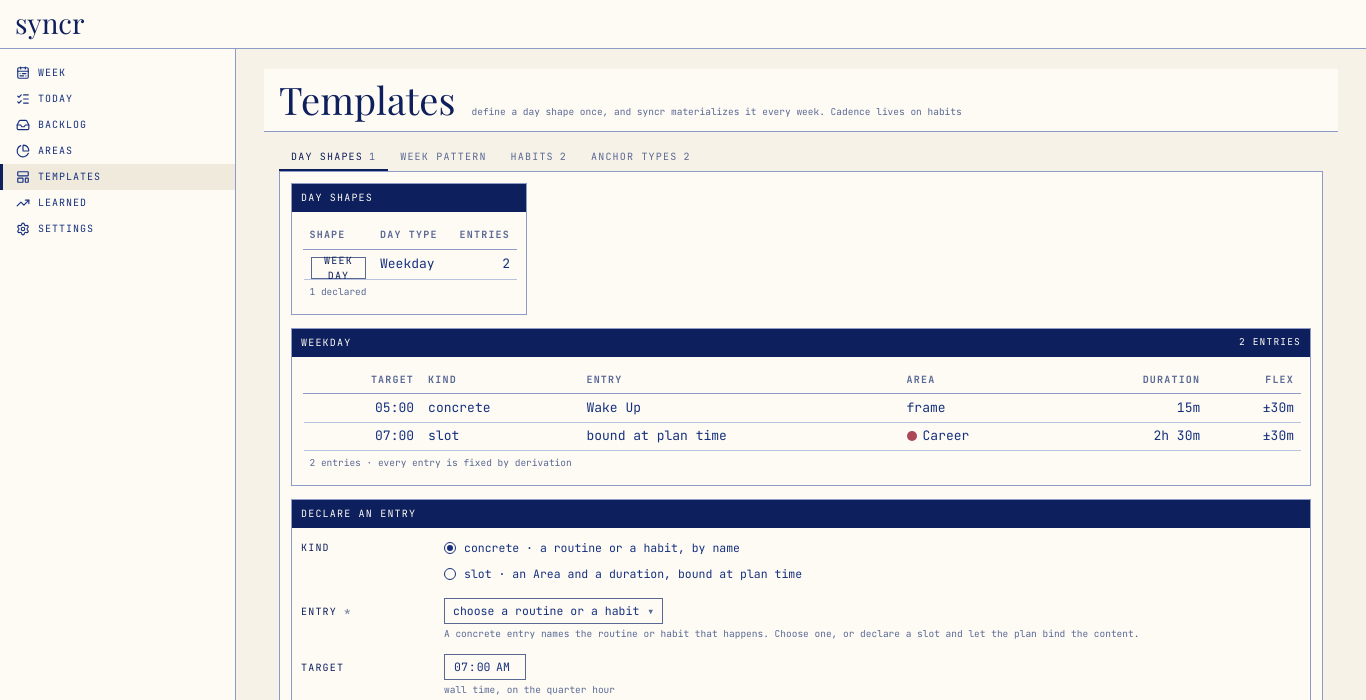
Test: the templates route › shows the habits tab's own table once it is chosen
Click the tab "Habits2": [539, 158] box x1=499 y1=145 x2=579 y2=171
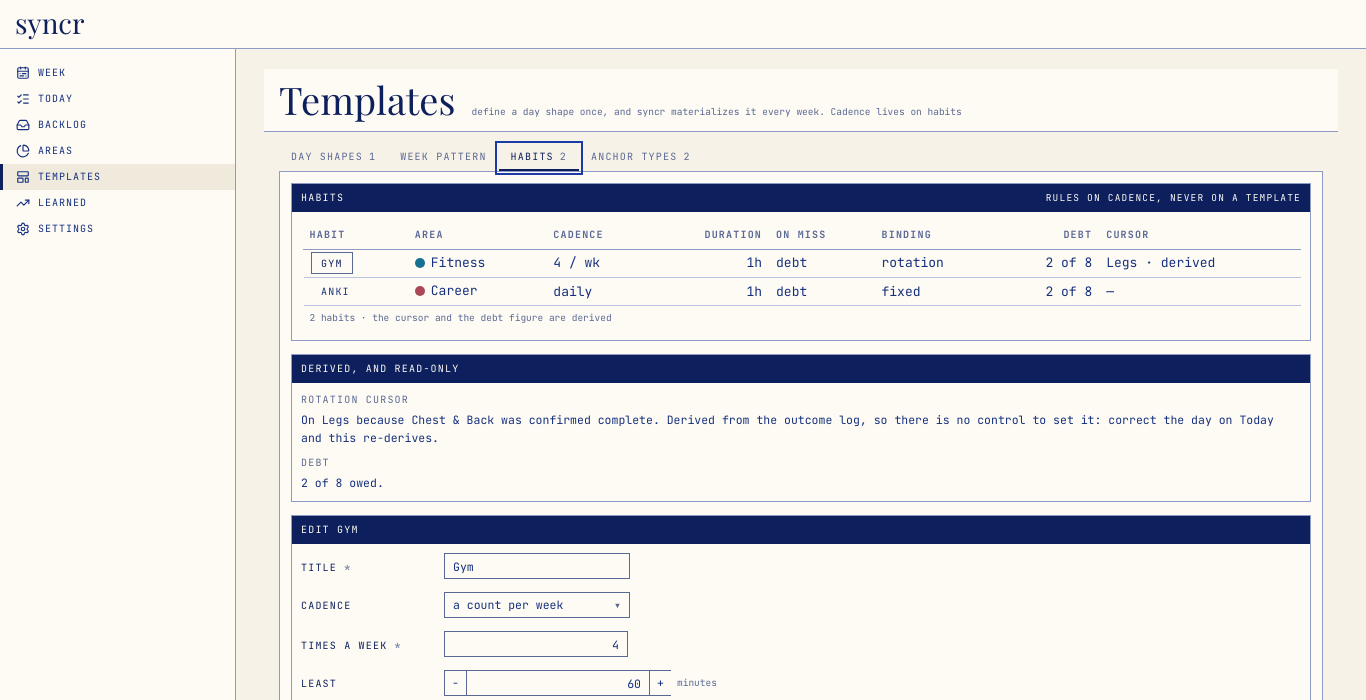
Now the table named "Habits" is shown, box x1=301 y1=221 x2=1301 y2=331
Now the table named "Habits" shows "4 / wk", box x1=553 y1=254 x2=600 y2=271
